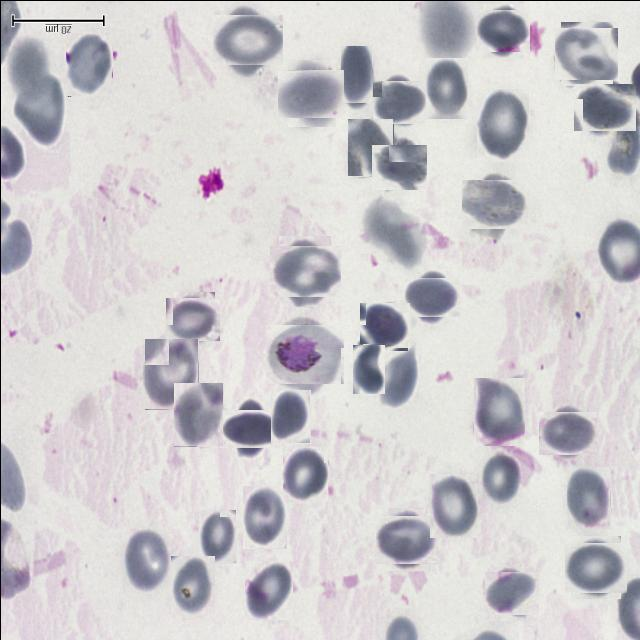difficult: (269, 319, 339, 388)
red blood cell: (476, 88, 529, 162), (144, 338, 198, 409), (216, 8, 276, 70), (274, 240, 334, 302), (12, 76, 63, 146), (473, 377, 524, 445), (557, 24, 615, 82), (282, 64, 340, 121), (466, 175, 524, 232), (122, 526, 170, 593), (173, 382, 223, 446), (567, 538, 623, 594), (378, 511, 434, 566), (429, 473, 477, 537), (65, 31, 112, 96), (577, 80, 631, 134), (244, 560, 292, 619), (242, 485, 286, 548), (566, 466, 610, 529), (170, 555, 214, 617), (347, 118, 393, 176), (424, 57, 467, 118), (542, 407, 593, 458), (225, 402, 276, 453), (282, 446, 328, 502), (374, 141, 424, 191), (374, 76, 423, 126), (486, 568, 536, 617), (168, 294, 217, 343), (377, 350, 417, 409), (479, 451, 522, 505), (406, 272, 454, 320), (478, 6, 526, 54), (361, 301, 408, 348), (270, 389, 310, 443), (198, 509, 236, 563), (340, 45, 372, 103), (352, 342, 384, 392)
